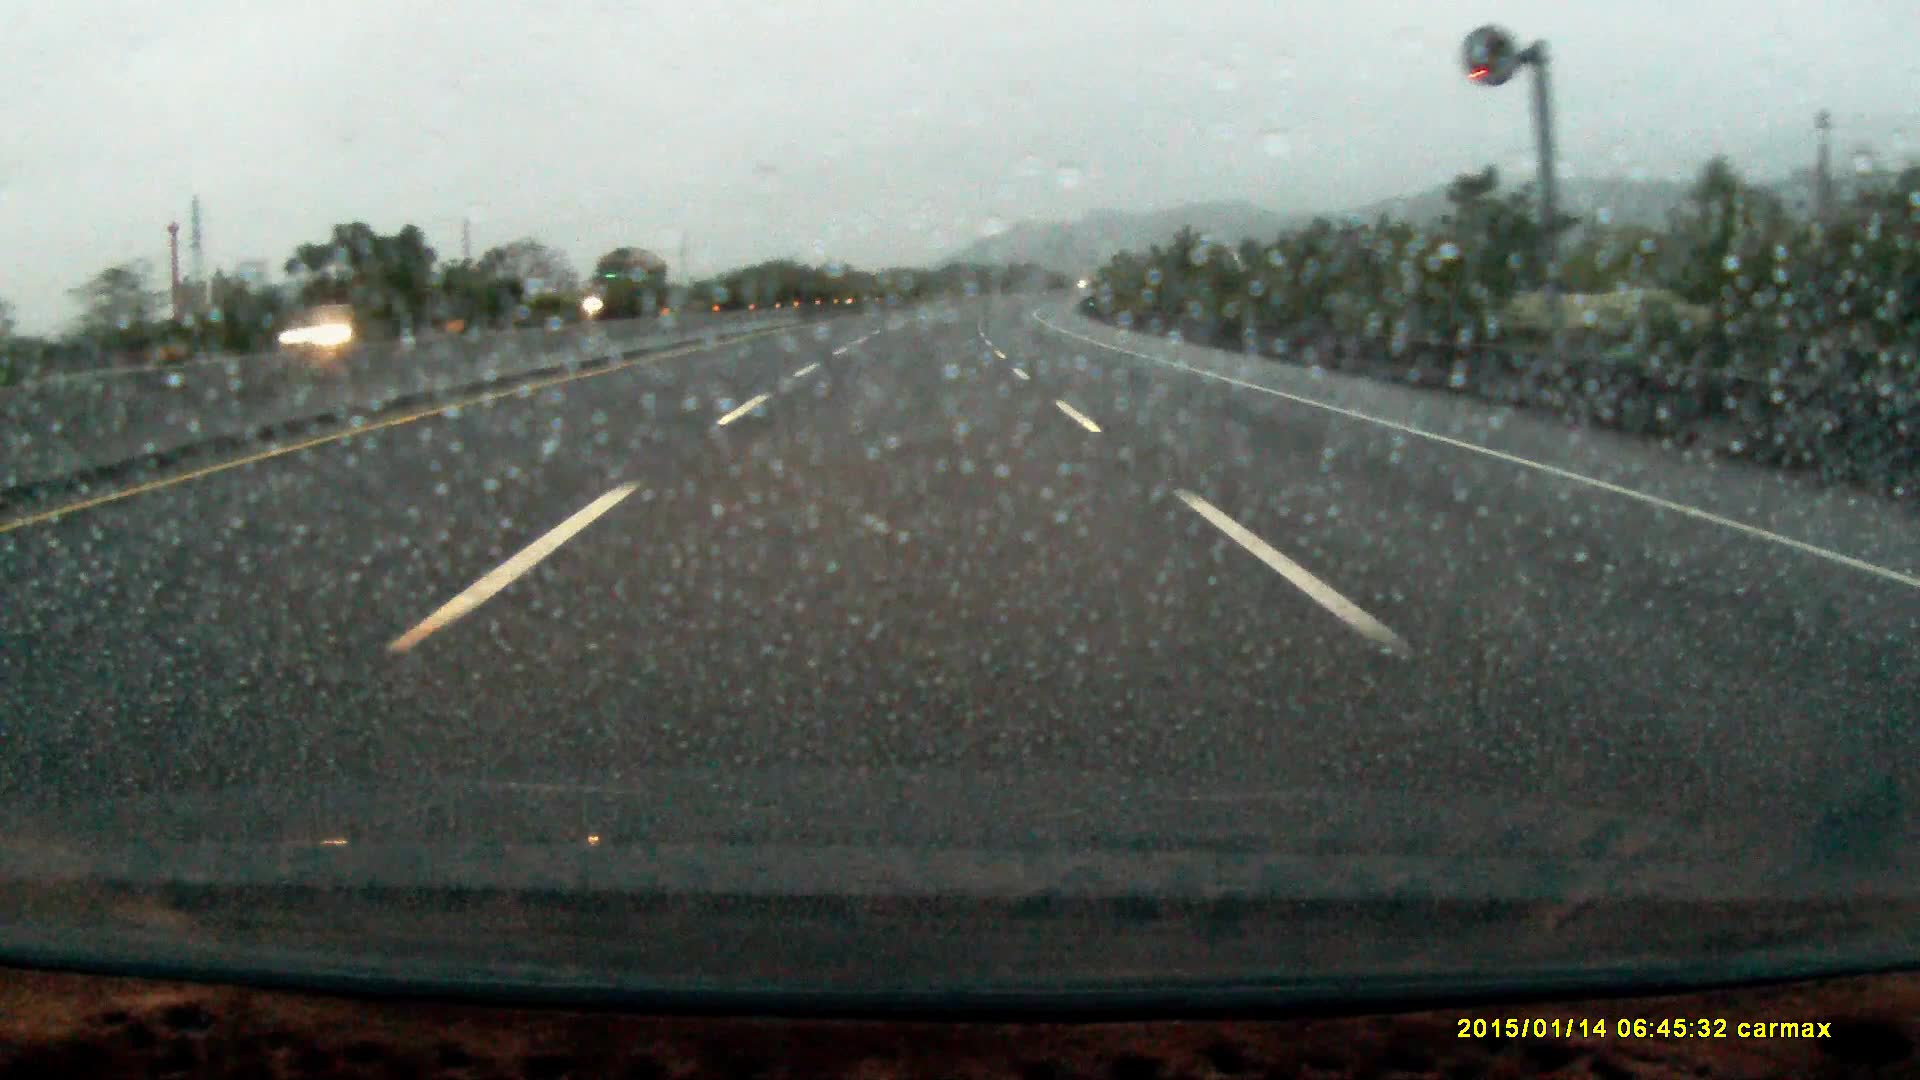vehicle: (268, 305, 404, 356), (583, 248, 673, 320)
